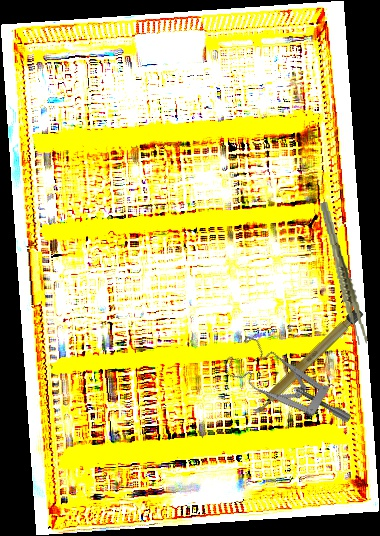Scalpel Handle: (248, 305, 365, 419)
Speculum: (217, 315, 353, 462)
Tissue Forceps: (318, 199, 369, 348)
